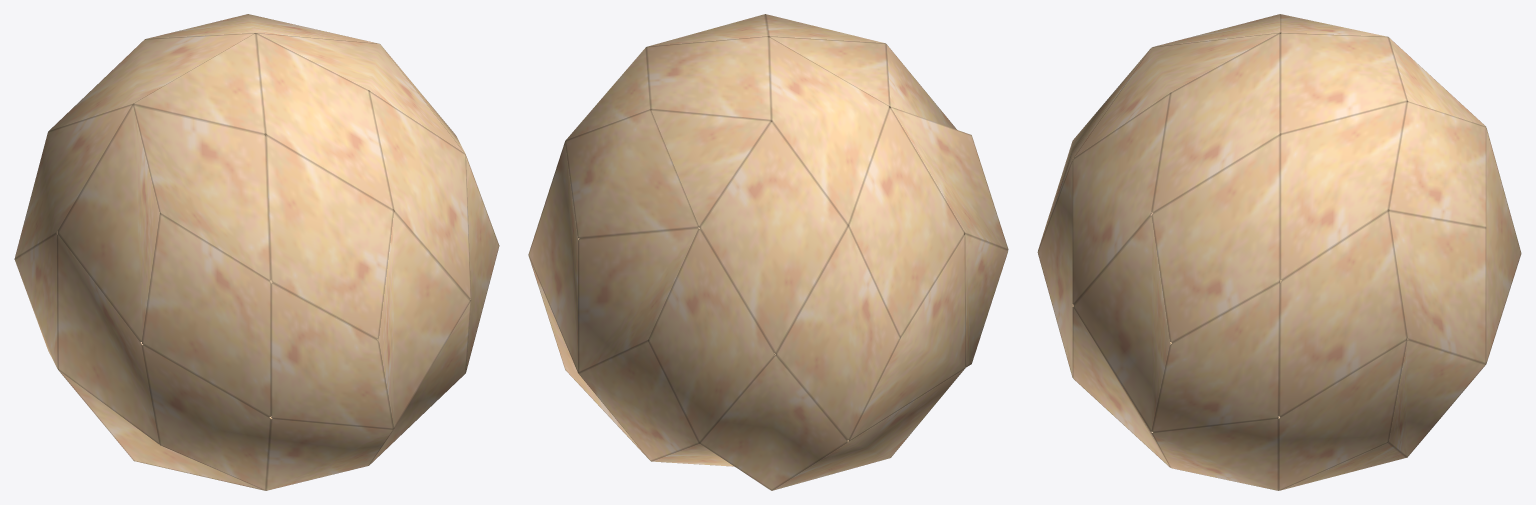
The picture shows the model from 3 angles, left to right: view 1: azimuth 30°, elevation 25°; view 2: azimuth 150°, elevation 25°; view 3: azimuth 270°, elevation 25°; orthographic projection.
Visible parts, largest first — view 1: T1L8M005_25; view 2: T1L8M005_25; view 3: T1L8M005_25.
Part boxes in pixels (left/top/right/bottom): T1L8M005_25: left=14, top=14, right=499, bottom=490; T1L8M005_25: left=528, top=14, right=1008, bottom=490; T1L8M005_25: left=1037, top=14, right=1521, bottom=490.
Bounding box in the file's own units: 0.3076 × 0.3232 × 0.3232.
